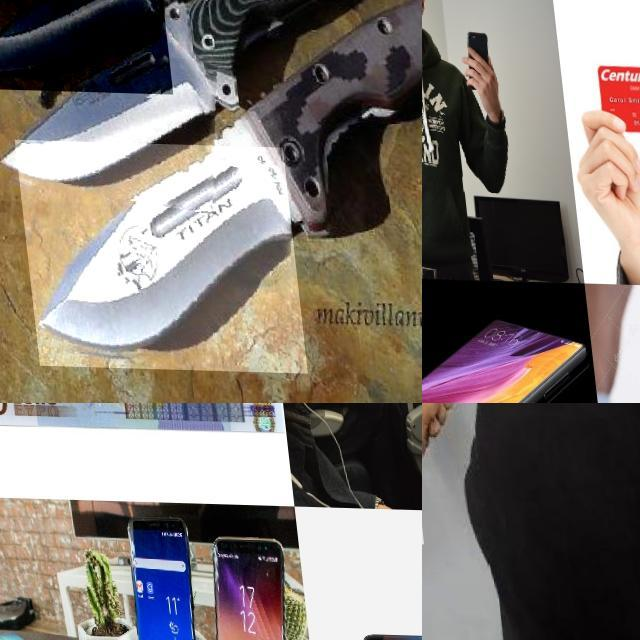-: (6, 140, 294, 372), (0, 34, 218, 206), (0, 0, 165, 92), (422, 418, 467, 542)
